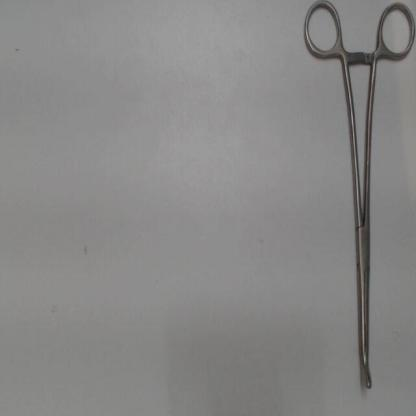Lahey Forceps: (299, 1, 415, 402)
